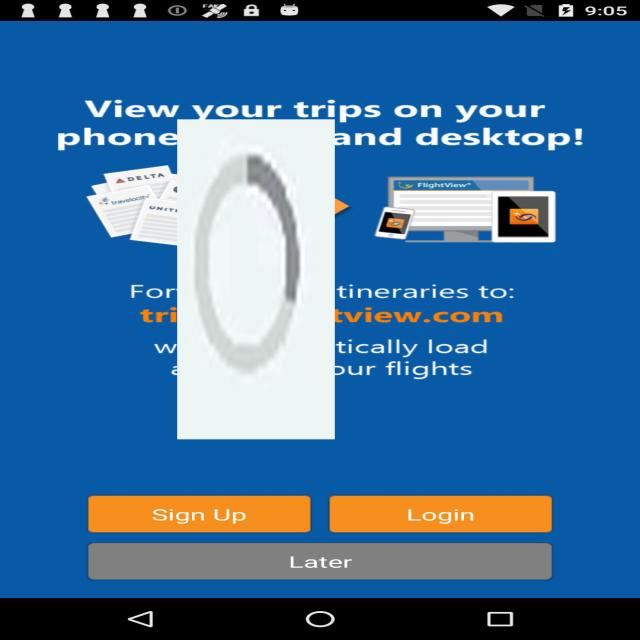misdirection: (177, 120, 335, 440)
